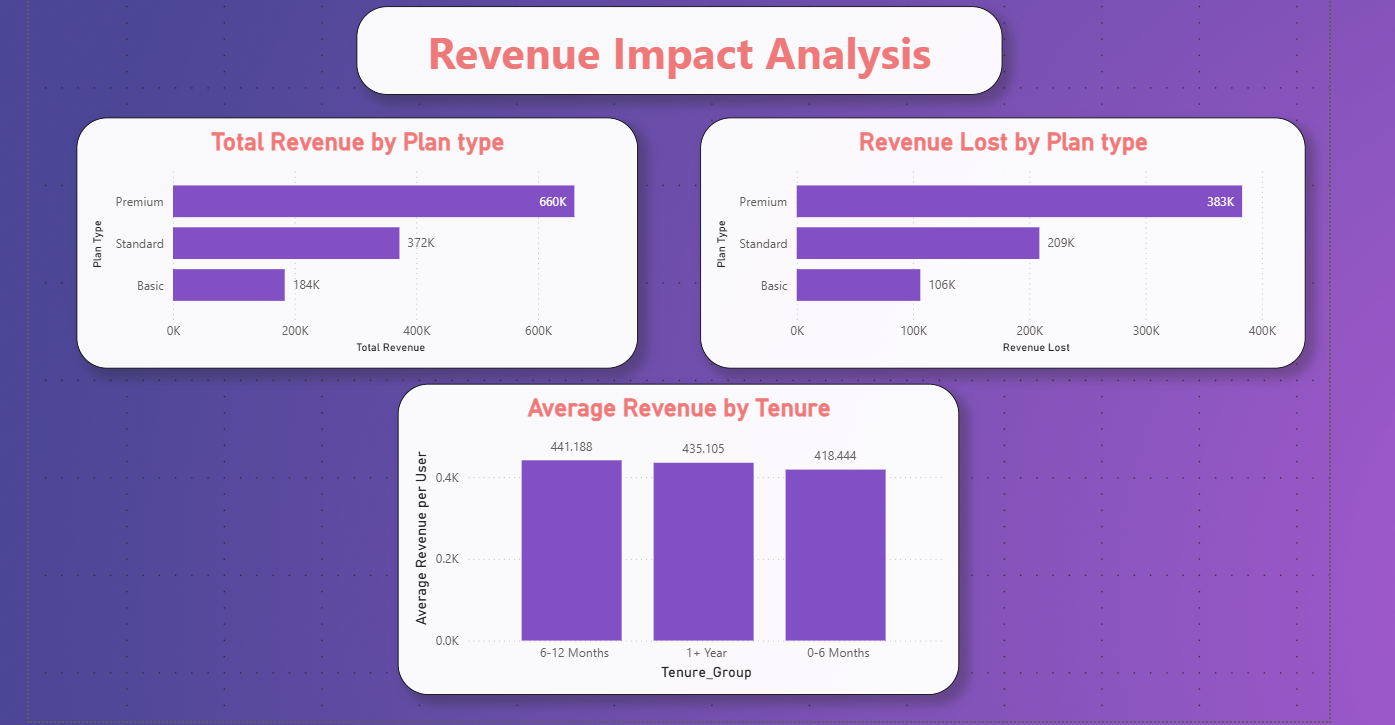

The page's visual inventory and layout, read from the dashboard file:
{"tool":"powerbi","page":{"name":"Page 4","canvas":[1280,720],"ordinal":3},"visuals":[{"type":"textbox","box":[322.5,16,636.3,87.4],"z":0},{"type":"barChart","title":"Total Revenue by Plan type","fields":{"Category":["churnanalysis.plan_type"],"Y":["churnanalysis.Total Spend"]},"box":[46.8,125.5,552.6,247.4],"z":1000},{"type":"barChart","title":"Revenue Lost by Plan type","fields":{"Category":["churnanalysis.plan_type"],"Y":["churnanalysis.Revenue Lost"]},"box":[660.9,125.5,595.7,247.4],"z":2000},{"type":"clusteredColumnChart","title":"Average Revenue by Tenure","fields":{"Y":["churnanalysis.ARPU"],"Category":["churnanalysis.Tenure_Group"]},"box":[363.1,387.7,552.6,306.5],"z":3000}]}

Visuals, with their boxes in screenshot pixels (x1, y1, x2, y2):
textbox: pyautogui.locateOnScreen(361, 9, 994, 96)
"Total Revenue by Plan type" barChart: pyautogui.locateOnScreen(87, 118, 636, 364)
"Revenue Lost by Plan type" barChart: pyautogui.locateOnScreen(698, 118, 1290, 364)
"Average Revenue by Tenure" clusteredColumnChart: pyautogui.locateOnScreen(401, 379, 951, 684)
